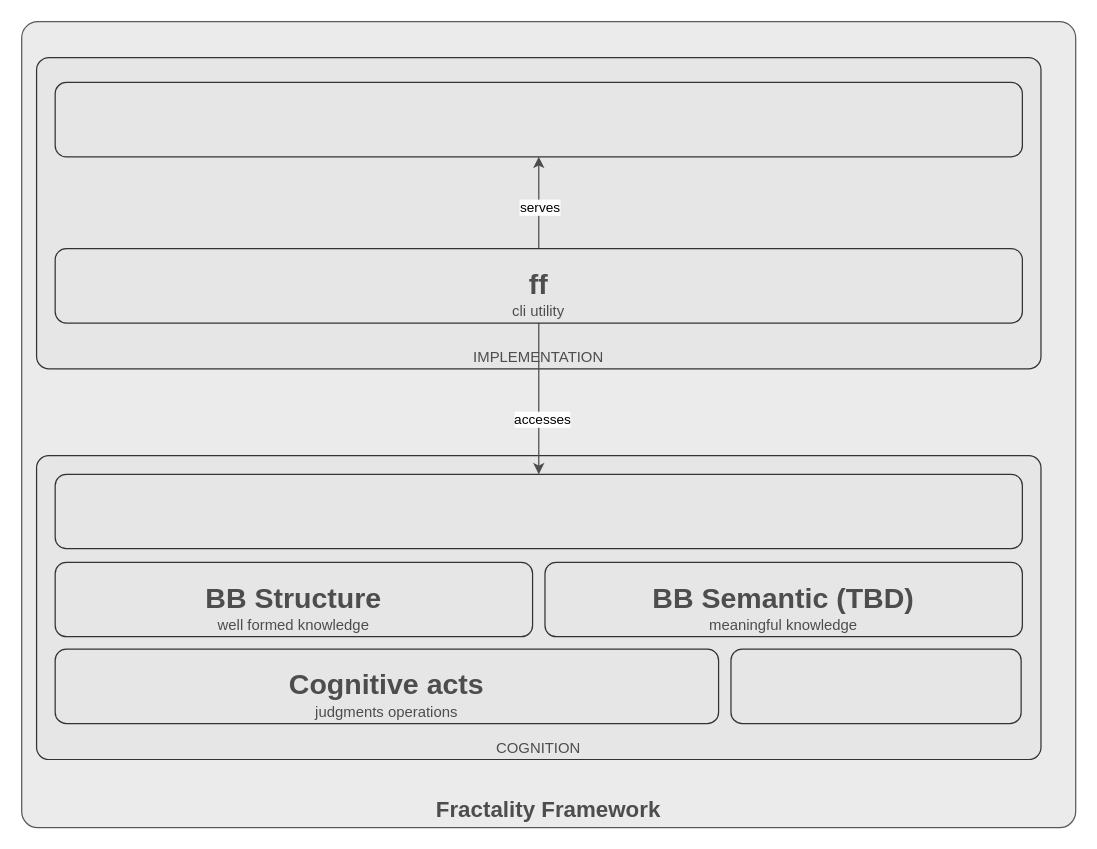
This 1097x849 diagram has some shape labels left out. Here are the shapes that lost their labels. From the top down, the centre of each, then its label:
At (x=538, y=119): "Surfaces extension mechanism".
At (x=538, y=511): "bb Bounded Beliefs database".
At (x=875, y=686): "Concepts mutations editing & versioning".
